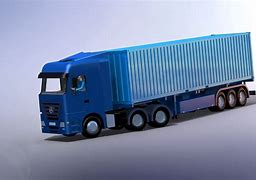bigtruck: (40, 34, 250, 132)
